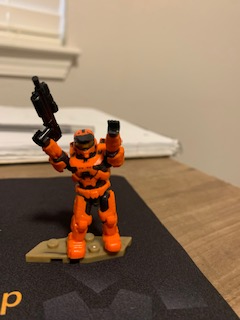rifle: (28, 74, 65, 148)
spartan: (31, 117, 126, 262)
up: (32, 118, 127, 189)
